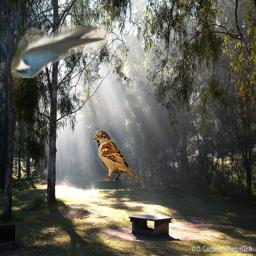Sparrow: (93, 131, 139, 181)
Swallow: (11, 25, 105, 78)
